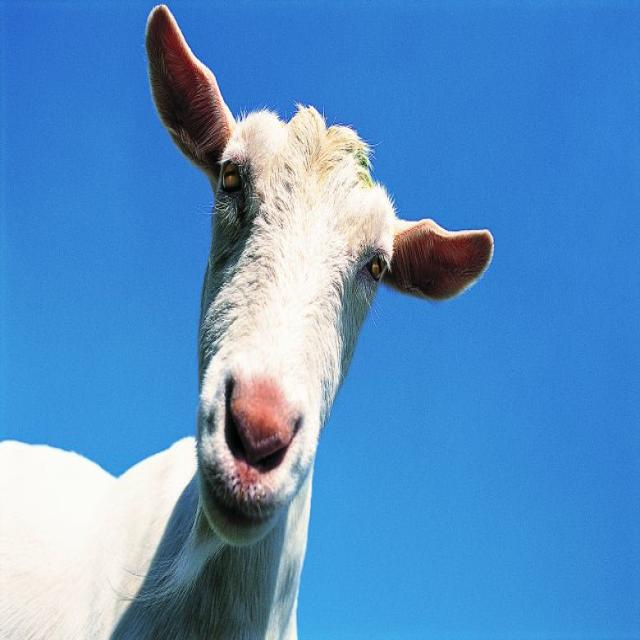Goat: (0, 2, 505, 639)
